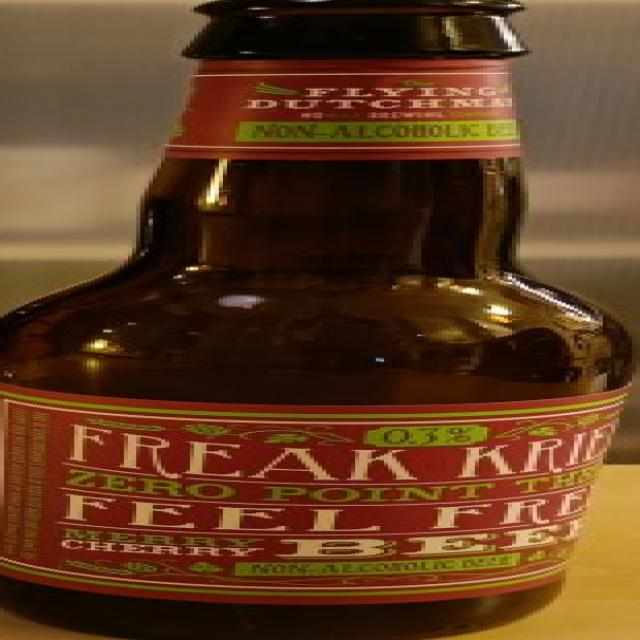Freak Kriek Zero Point Three Feel Free Merry Cherry Beer: (0, 1, 640, 640)
